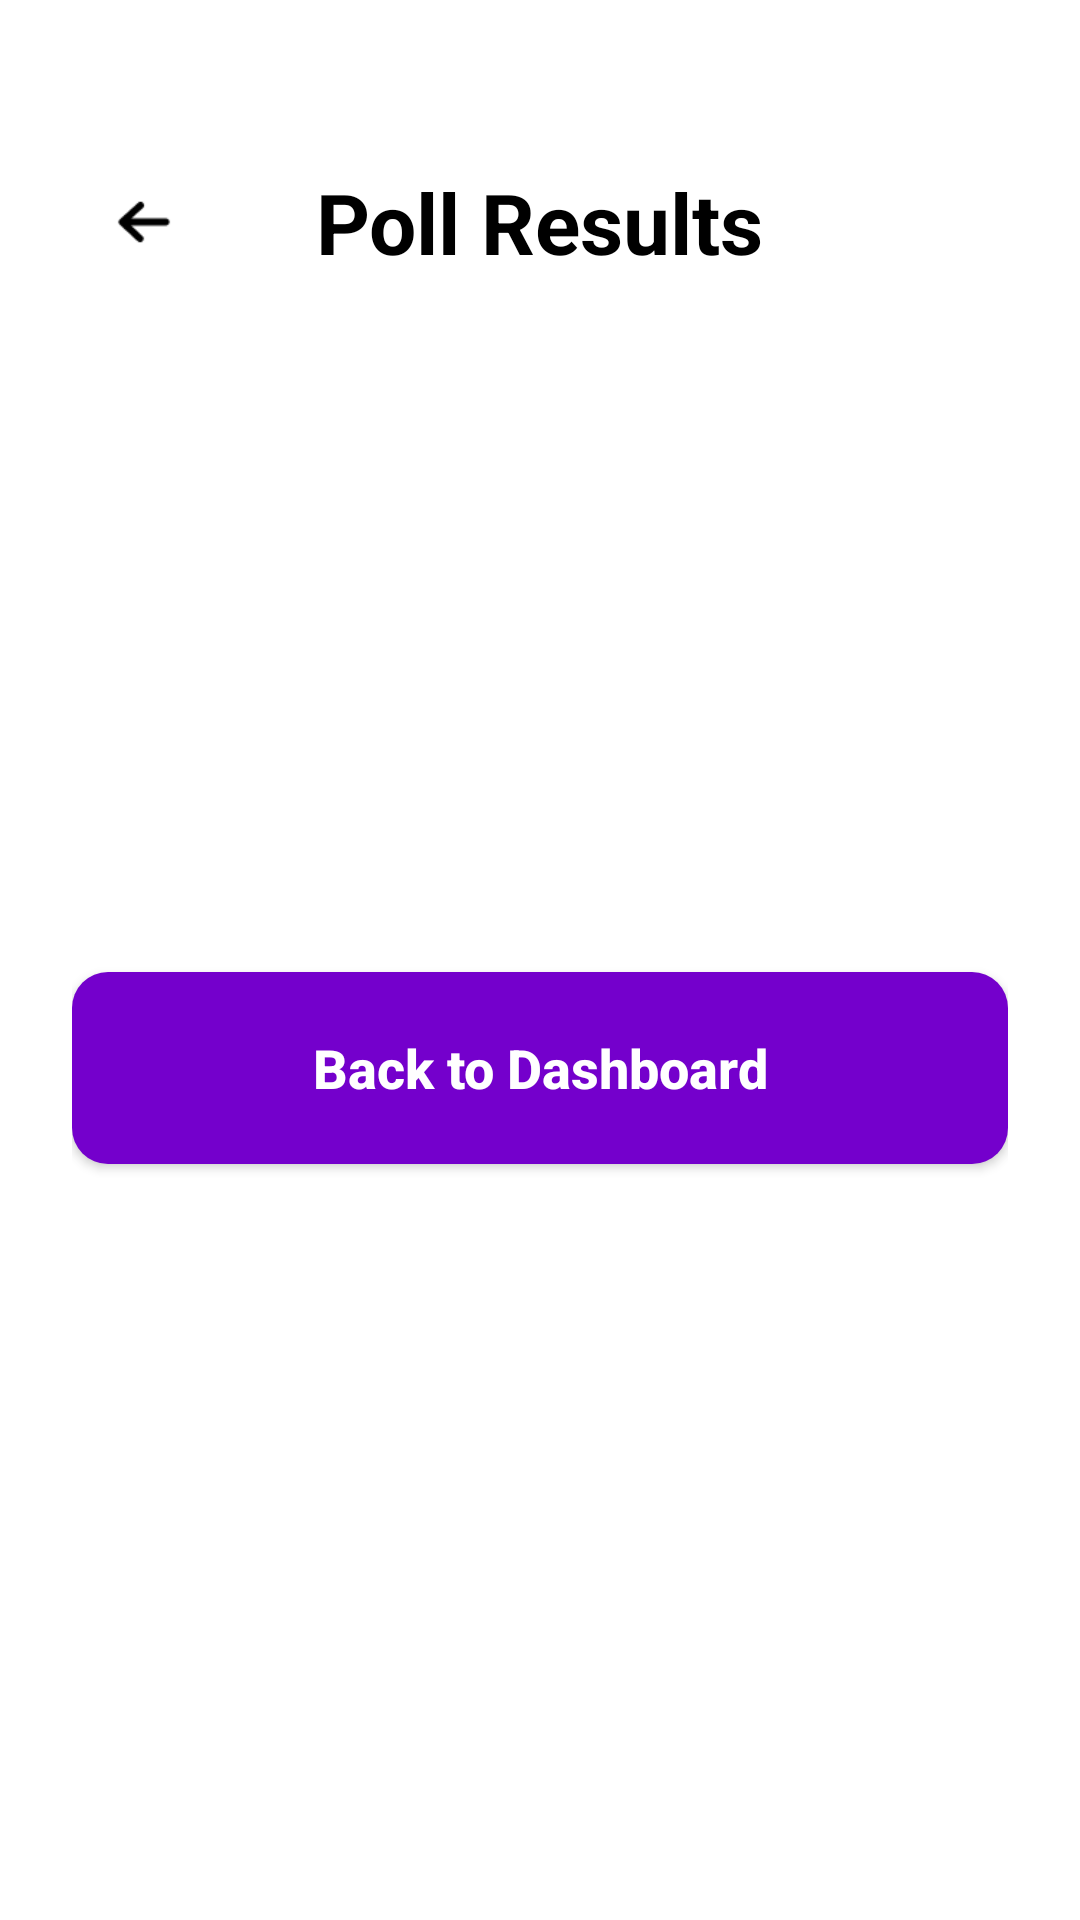

Where icons sit on this 1080×1920 app screen, as {"x1": x1, "y1": y1, "x2": x2, "y2": y2}:
back arrow: {"x1": 118, "y1": 201, "x2": 170, "y2": 243}
